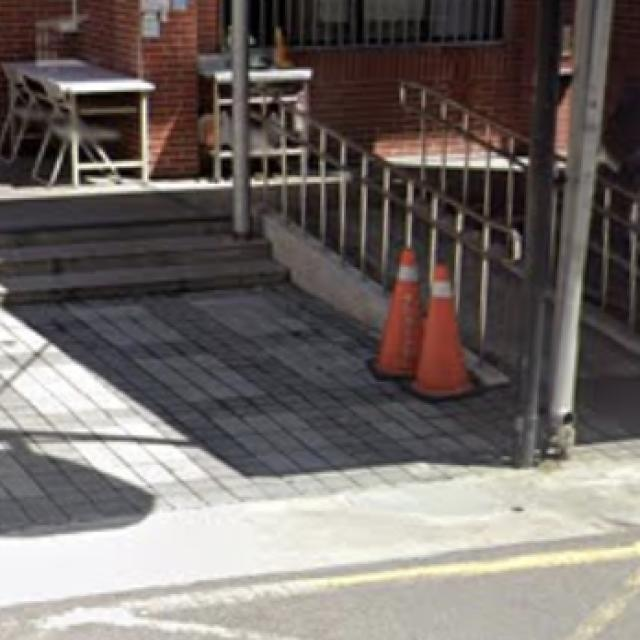cone: (416, 264, 483, 402), (369, 239, 420, 380)
